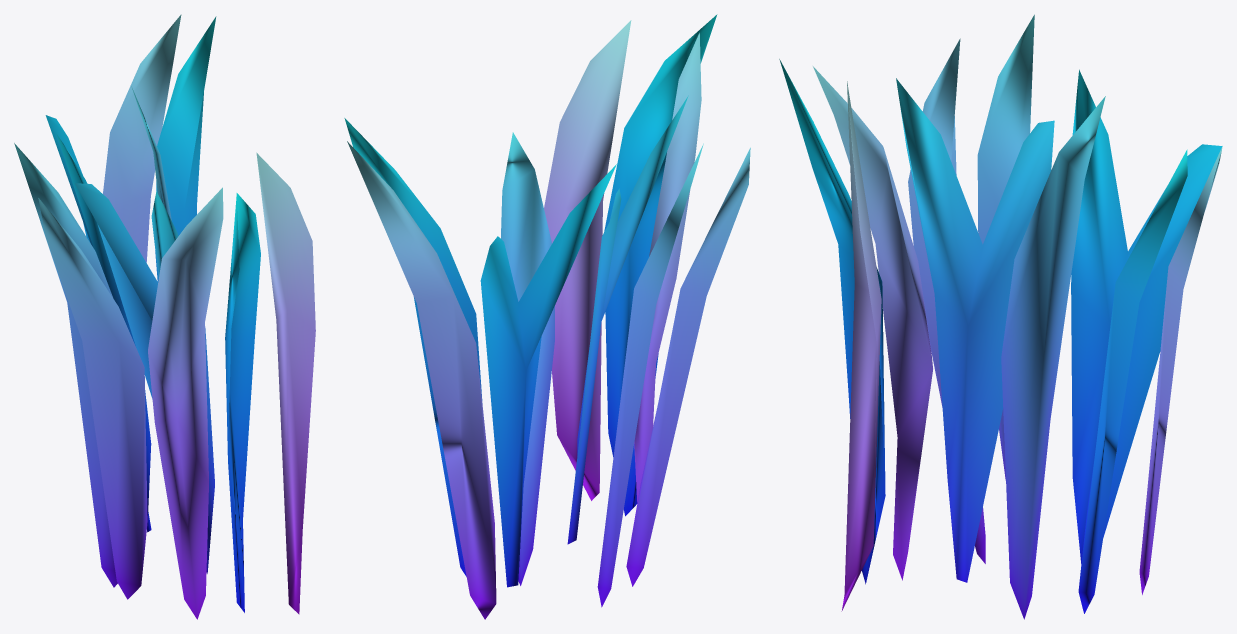
File: q_grass_wide.glb
3 renders of one model, left to right at view 1: azimuth 30°, elevation 25°; view 2: azimuth 150°, elevation 25°; view 3: azimuth 270°, elevation 25°, orthographic. The views are drawn at different scales.
Visible parts, largest first — view 1: Grass; view 2: Grass; view 3: Grass.
Part boxes in pixels (x1,y1,x2,y2): Grass: (14,14,315,619); Grass: (344,14,750,619); Grass: (779,14,1222,619).
Size of the model in its own units: 0.2435 by 0.4 by 0.3048.
